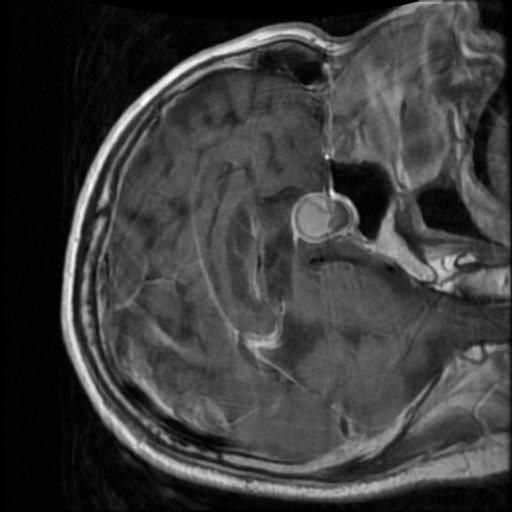pituitary tumour: (292, 192, 340, 242)
